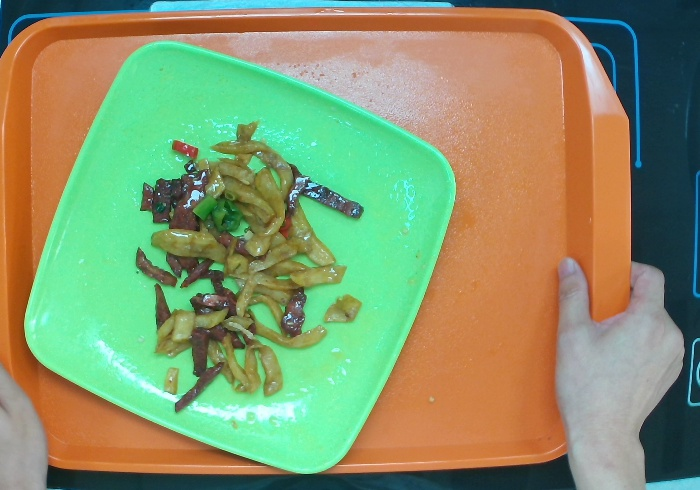ZNLD-Lv_Fang_Pan: (18, 35, 467, 482)
